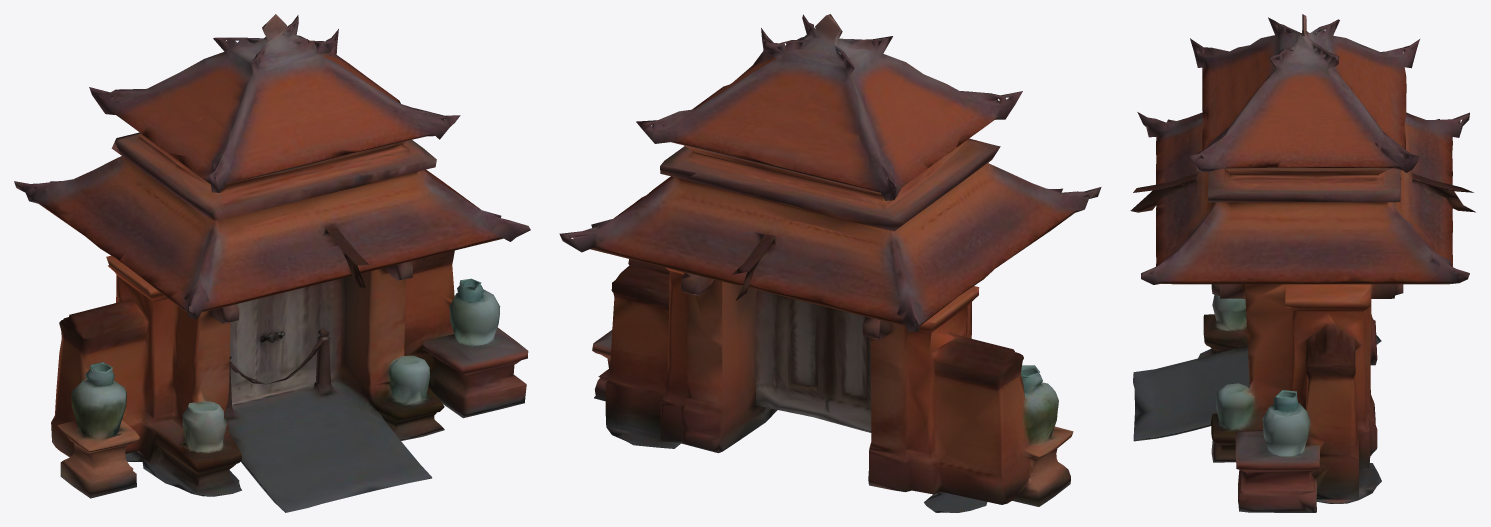
File: gerbang_rumah_1.glb
3 renders of one model, left to right at view 1: azimuth 30°, elevation 25°; view 2: azimuth 150°, elevation 25°; view 3: azimuth 270°, elevation 25°, orthographic. The views are drawn at different scales.
Parts seen in each view (by area): view 1: tripo_node_a6c44f9a-b3c0-457c-9d92-baeb67318961; view 2: tripo_node_a6c44f9a-b3c0-457c-9d92-baeb67318961; view 3: tripo_node_a6c44f9a-b3c0-457c-9d92-baeb67318961.
Part boxes in pixels (<box>): tripo_node_a6c44f9a-b3c0-457c-9d92-baeb67318961: <box>14,14,530,512</box>; tripo_node_a6c44f9a-b3c0-457c-9d92-baeb67318961: <box>559,14,1101,512</box>; tripo_node_a6c44f9a-b3c0-457c-9d92-baeb67318961: <box>1130,14,1475,512</box>.
Size of the model in its own units: 1 by 0.934 by 0.7319.
Materials: 1 (1 with a texture image).
